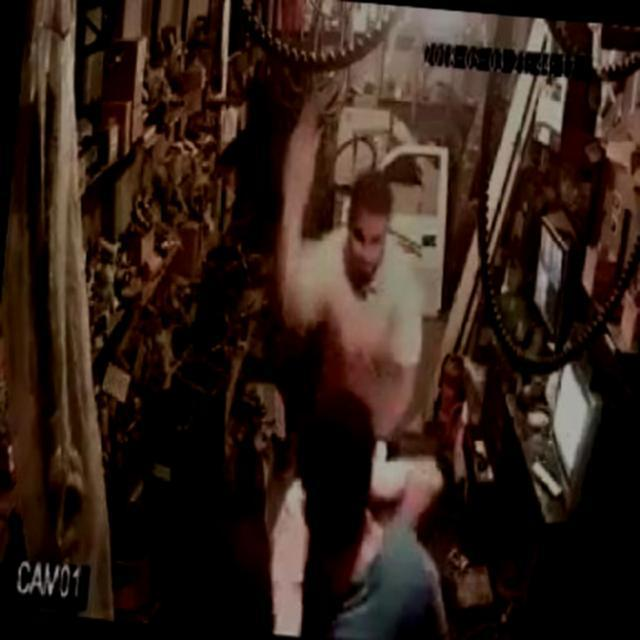fight: (245, 114, 478, 638)
